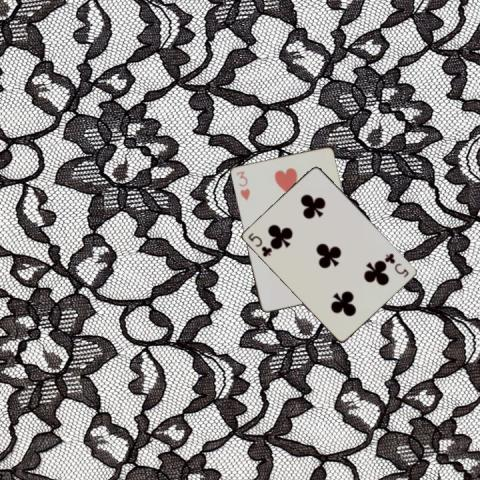3h: (234, 168, 252, 201)
5c: (382, 250, 410, 279), (246, 230, 274, 258)
